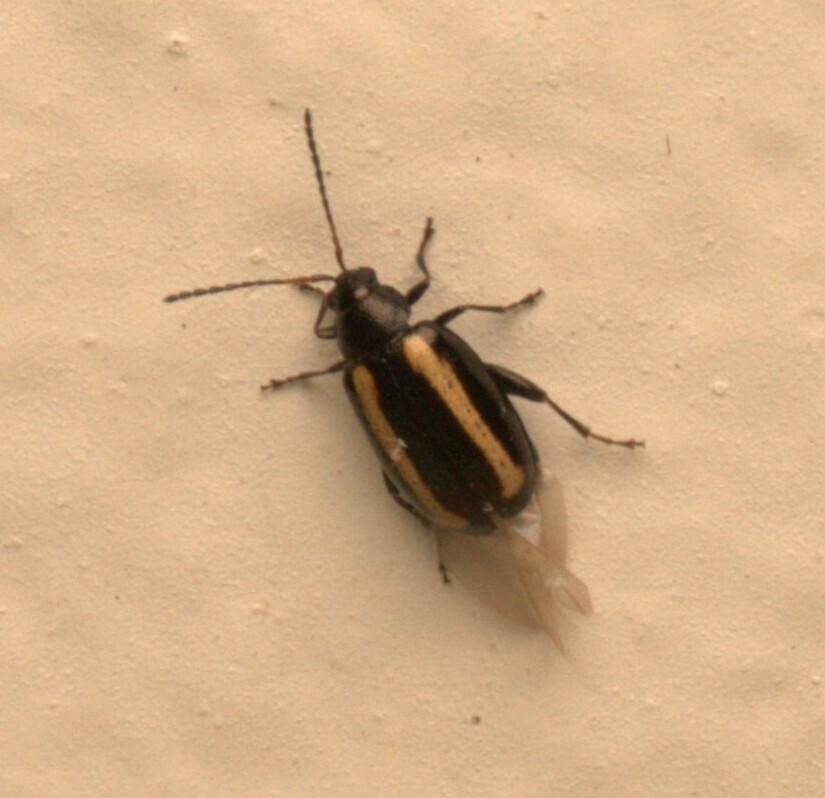flea_beetle: (112, 38, 714, 672)
